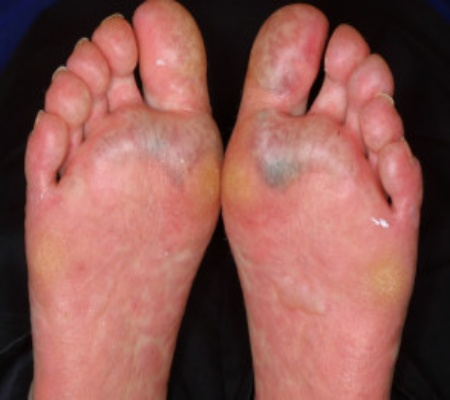SJS-TEN: (216, 2, 426, 400), (17, 0, 225, 400)
